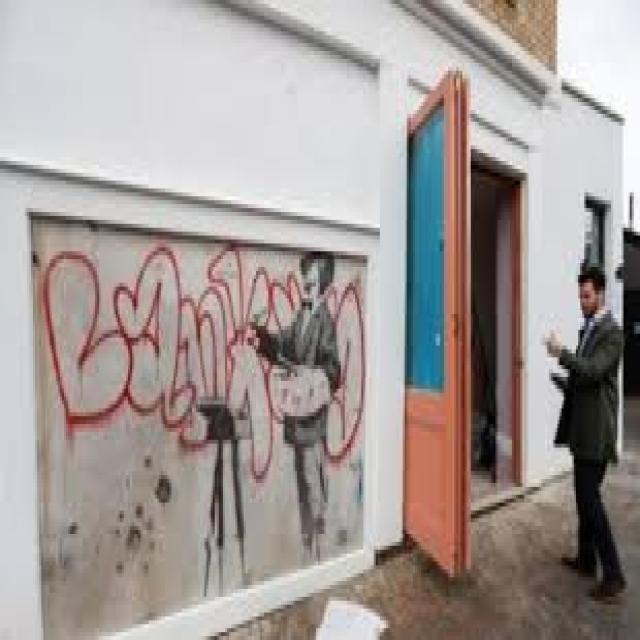-: (44, 246, 366, 568)
